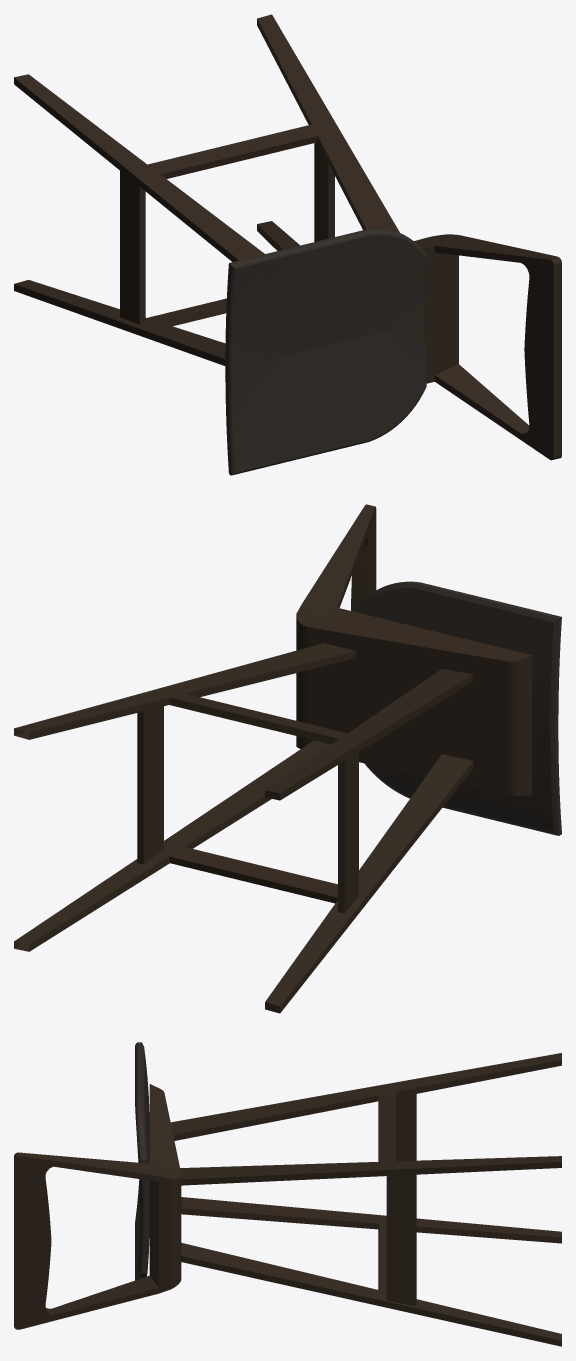
The picture shows the model from 3 angles, top to bottom: view 1: azimuth 30°, elevation 25°; view 2: azimuth 150°, elevation 25°; view 3: azimuth 270°, elevation 25°; orthographic projection. The views are drawn at different scales.
Visible parts, largest first — view 1: bar stool; view 2: bar stool; view 3: bar stool.
Part boxes in pixels (left/top/right/bottom): bar stool: left=14, top=14, right=561, bottom=475; bar stool: left=14, top=504, right=561, bottom=1013; bar stool: left=14, top=1042, right=561, bottom=1346.
Bounding box in the file's own units: 19.24 × 13.73 × 36.87.
